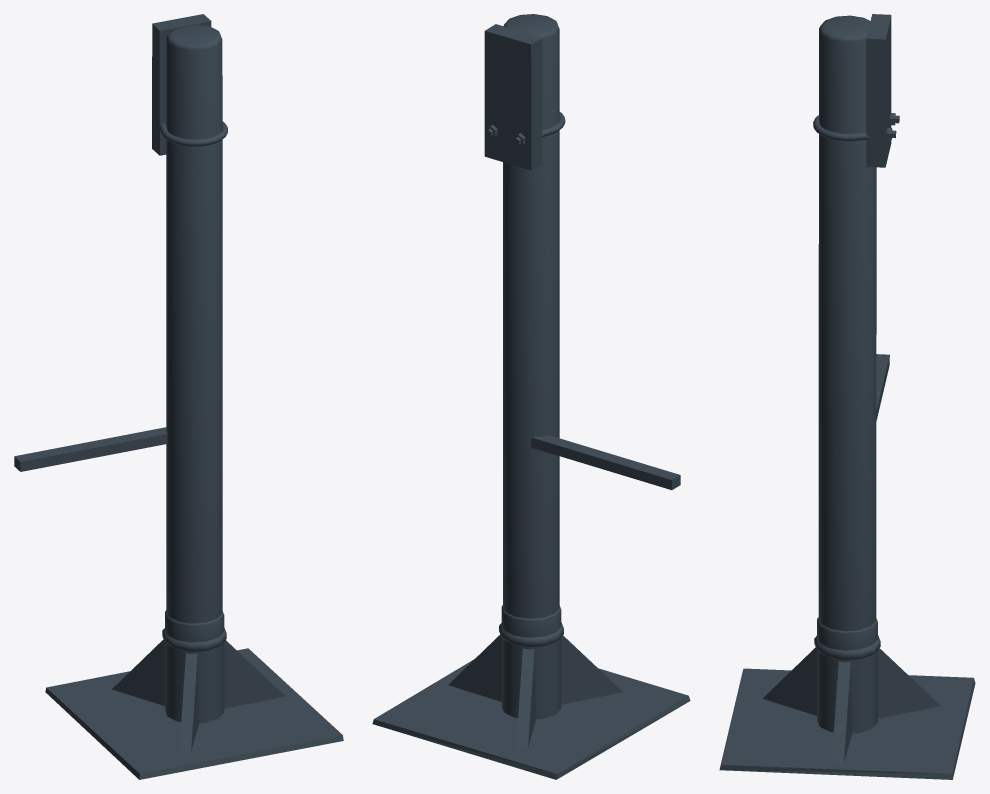
Rendered from 立柱与底座.fbx.
3 renders of one model, left to right at view 1: azimuth 30°, elevation 25°; view 2: azimuth 150°, elevation 25°; view 3: azimuth 270°, elevation 25°, orthographic. The views are drawn at different scales.
Visible parts, largest first — view 1: 立柱_支撑管, 底座_安装底板, 立柱_底部套筒, 支架_线缆固定片, 支架_仪表安装板, 底座_加强筋_03, 底座_加强筋_02, 底座_加强筋_01, 立柱_固定环; view 2: 立柱_支撑管, 底座_安装底板, 支架_仪表安装板, 立柱_底部套筒, 支架_线缆固定片, 底座_加强筋_01, 底座_加强筋_03, 底座_加强筋_02; view 3: 立柱_支撑管, 底座_安装底板, 立柱_底部套筒, 支架_仪表安装板, 底座_加强筋_02, 底座_加强筋_01, 底座_加强筋_03, 支架_线缆固定片, 立柱_固定环.
Boxes of the visible parts, box(x1,y1,x2,y2) form: 立柱_支撑管: box(166, 25, 222, 623); 底座_安装底板: box(45, 648, 343, 779); 立柱_底部套筒: box(162, 610, 226, 723); 支架_线缆固定片: box(14, 427, 167, 471); 支架_仪表安装板: box(152, 14, 211, 155); 底座_加强筋_03: box(224, 640, 285, 708); 底座_加强筋_02: box(112, 639, 164, 705); 底座_加强筋_01: box(179, 653, 199, 752); 立柱_固定环: box(159, 121, 227, 146); 立柱_支撑管: box(503, 14, 559, 618); 底座_安装底板: box(372, 659, 690, 779); 支架_仪表安装板: box(484, 24, 542, 170); 立柱_底部套筒: box(499, 605, 563, 719); 支架_线缆固定片: box(531, 435, 680, 490); 底座_加强筋_01: box(561, 635, 622, 704); 底座_加强筋_03: box(448, 635, 501, 701); 底座_加强筋_02: box(516, 648, 536, 748); 立柱_支撑管: box(818, 15, 876, 631); 底座_安装底板: box(719, 668, 975, 779); 立柱_底部套筒: box(814, 617, 880, 733); 支架_仪表安装板: box(866, 14, 891, 167); 底座_加强筋_02: box(878, 648, 940, 718); 底座_加强筋_01: box(763, 647, 816, 715); 底座_加强筋_03: box(832, 661, 852, 763); 支架_线缆固定片: box(876, 354, 889, 421); 立柱_固定环: box(813, 115, 869, 141).
Bounding box in the file's own units: 0.1314 × 0.3206 × 0.1061.
